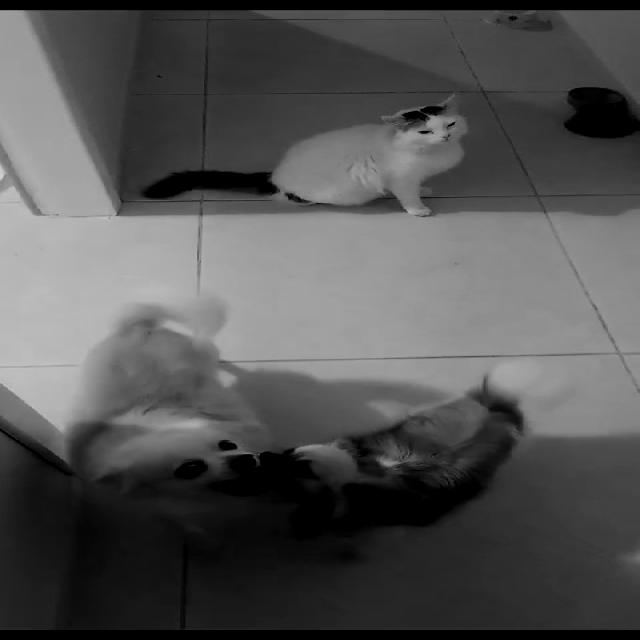Pedrita: (255, 390, 593, 538)
Simba: (150, 84, 562, 230)
Theo: (56, 290, 332, 548)
